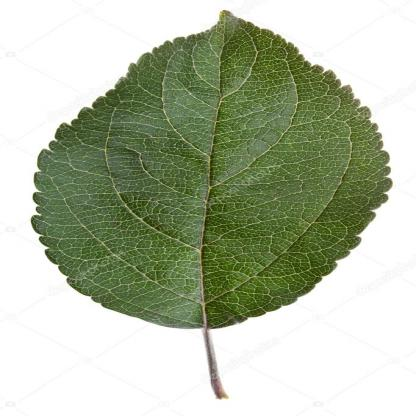apple leaf: (21, 4, 404, 335)
